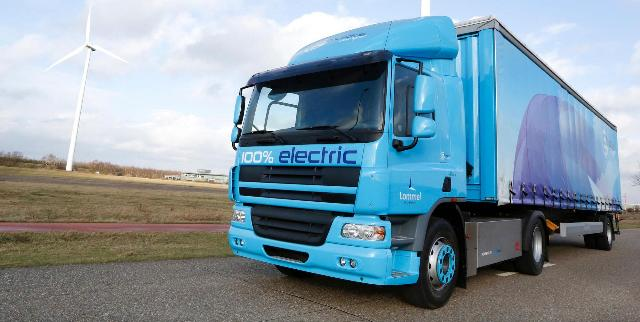truck: (204, 18, 639, 292)
